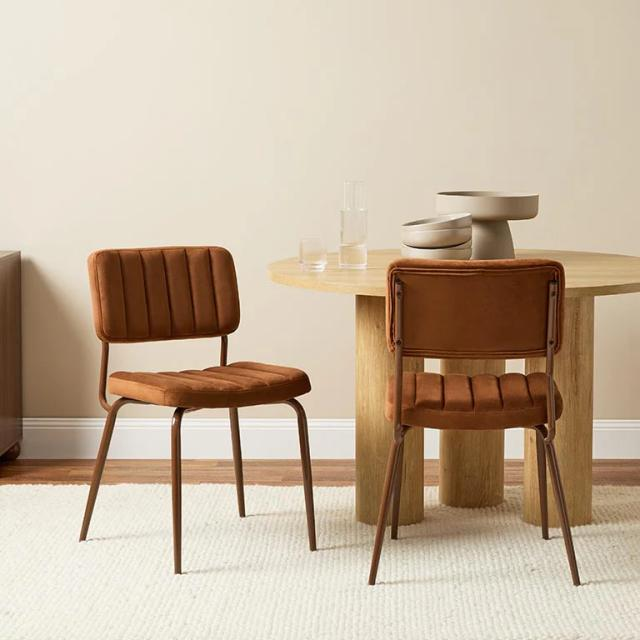Chair: (70, 231, 326, 583), (358, 246, 596, 601)
